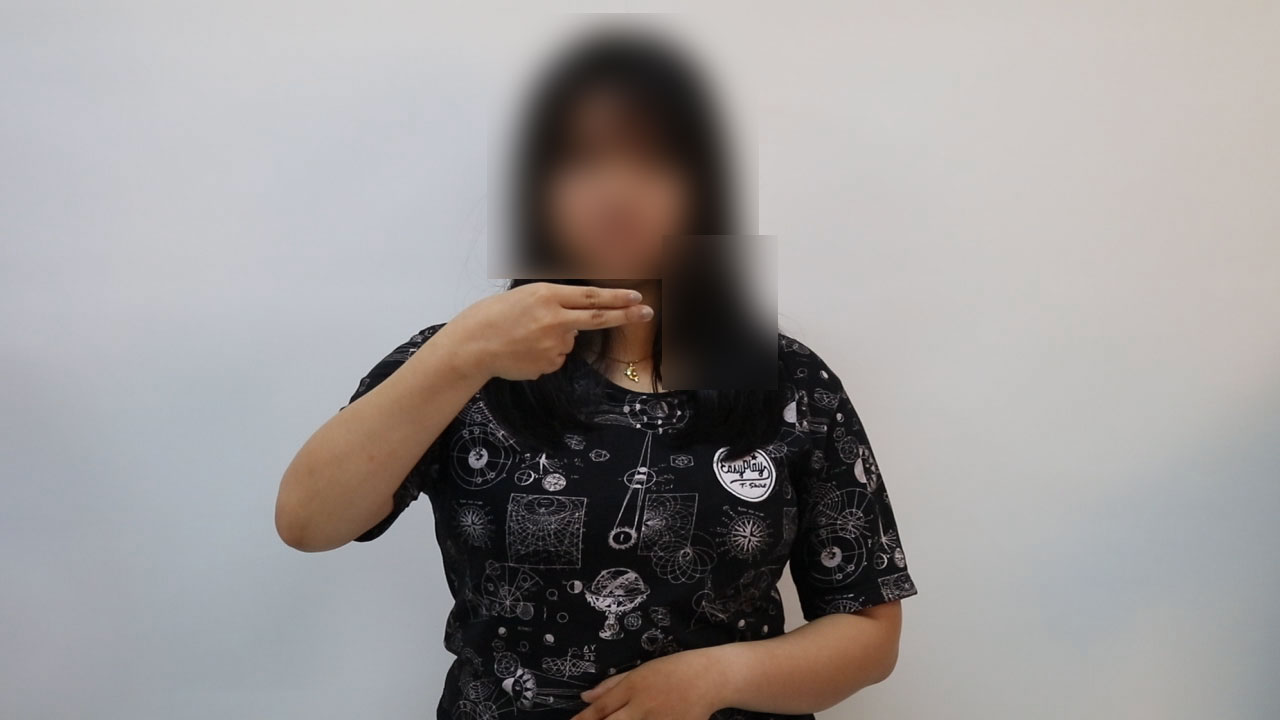hor: (433, 271, 668, 396)
